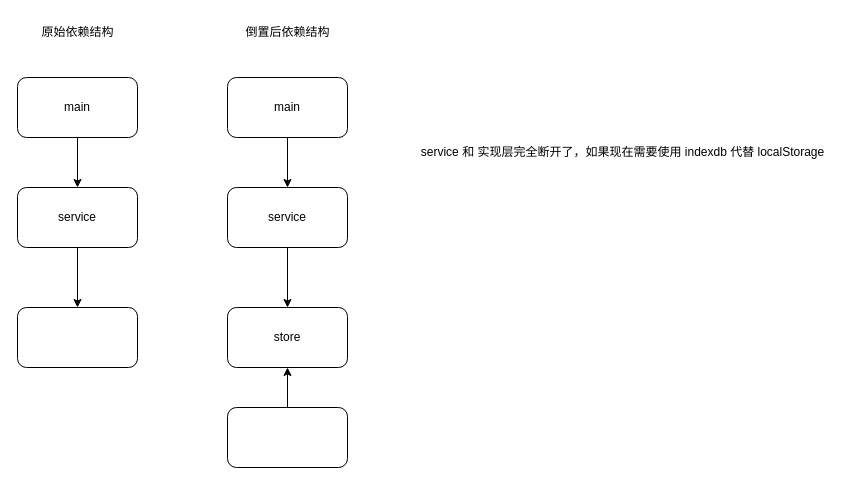
The diagram is 855 pixels wide and 485 high, and some of its shapes have lost their labels. The box of each missing label's shape, as (x1, y1, x2, y2) in pixels:
localStorage: (16, 306, 138, 368)
storeImp: (226, 406, 348, 468)
